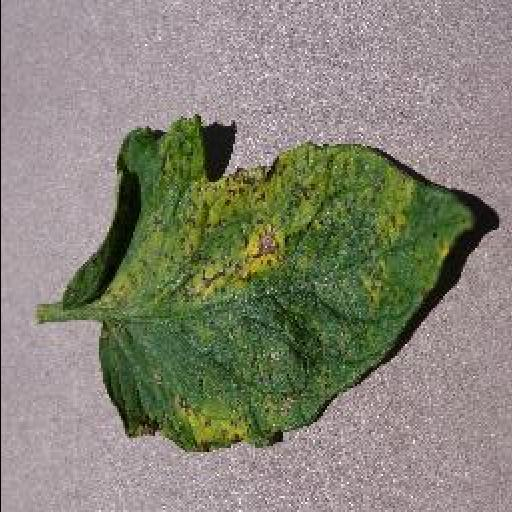disease_tomato: (58, 110, 480, 451)
